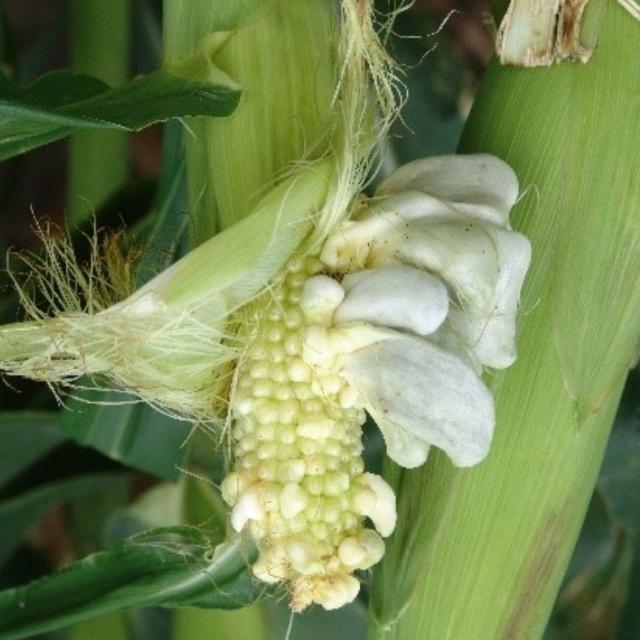Leaf_Scald: (116, 105, 551, 620)
